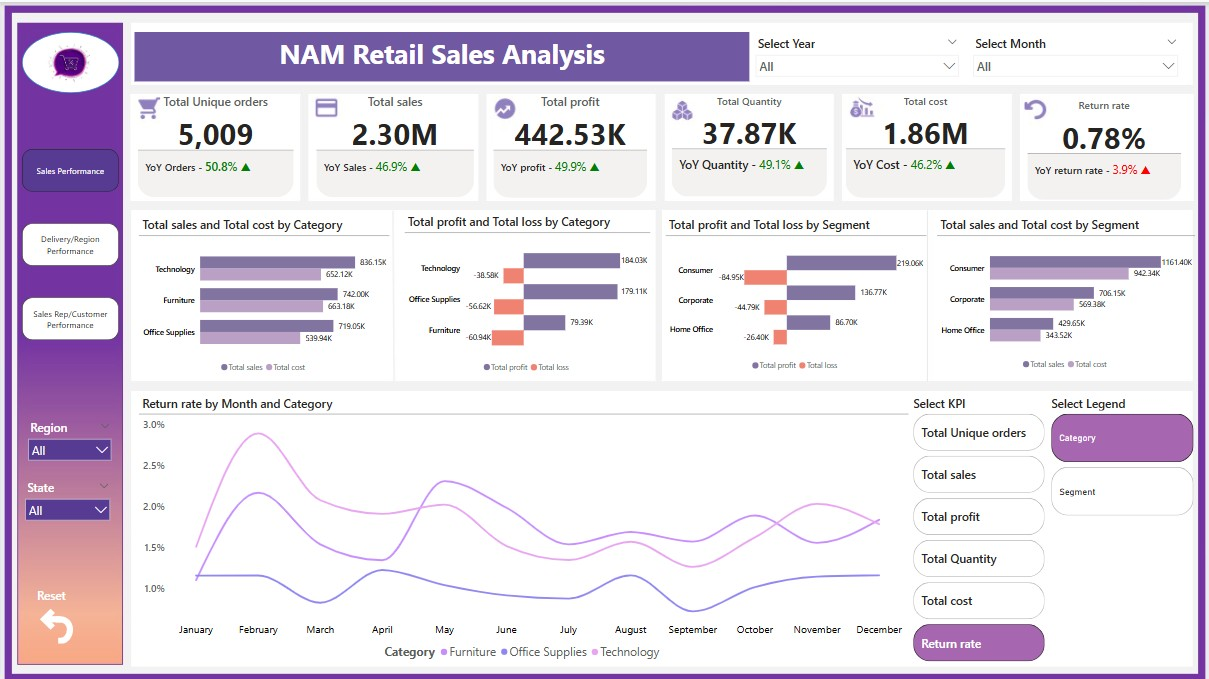

The dashboard page shown, as its layout file describes it:
{"tool":"powerbi","page":{"name":"Sales Performance","canvas":[1920,1080],"ordinal":0},"visuals":[{"type":"clusteredBarChart","fields":{"Category":["Dim_Products.Category"],"Y":["_measures.Total sales","_measures.Total cost"]},"box":[219.5,341.2,398.4,257.7],"z":0},{"type":"clusteredBarChart","fields":{"Category":["Dim_Products.Category"],"Y":["_measures.Total profit","_measures.Total loss"]},"box":[641.8,336.4,391.3,262.5],"z":1000},{"type":"lineChart","fields":{"Y":["_measures.Return rate"],"Series":["Dim_Products.Category"],"Category":["dim_Date.Date.Variation.Date Hierarchy.Year","dim_Date.Date.Variation.Date Hierarchy.Month"]},"box":[219.5,625.1,1224,429.5],"z":2000},{"type":"advancedSlicerVisual","title":"Select KPI","fields":{"Values":["KPI.KPI"]},"box":[1445.9,625.1,219.5,429.5],"z":3000},{"type":"cardVisual","fields":{"Data":["_measures.Total Unique orders"]},"box":[212.7,145.8,258.2,170.1],"z":4000},{"type":"cardVisual","fields":{"Data":["_measures.Total sales"]},"box":[495.2,145.8,261.3,170.1],"z":5000},{"type":"cardVisual","fields":{"Data":["_measures.Total profit"]},"box":[777.8,145.5,255.3,171.8],"z":6000},{"type":"cardVisual","fields":{"Data":["_measures.Total Quantity"]},"box":[1061.7,145.5,257.7,169.4],"z":7000},{"type":"cardVisual","fields":{"Data":["_measures.Total cost"]},"box":[1338.5,145.5,264.8,171.8],"z":8000},{"type":"slicer","fields":{"Values":["dim_Date.Year"]},"box":[1191.3,47.7,342.5,83.4],"z":10000},{"type":"slicer","fields":{"Values":["dim_Date.Month Name"]},"box":[1536.8,47.7,345.5,83.4],"z":11000},{"type":"clusteredBarChart","fields":{"Y":["_measures.Total profit","_measures.Total loss"],"Category":["Dim_customers.Segment"]},"box":[1057,341.2,415.1,255.3],"z":12000},{"type":"clusteredBarChart","fields":{"Y":["_measures.Total sales","_measures.Total cost"],"Category":["Dim_customers.Segment"]},"box":[1488.8,341.2,410.4,252.9],"z":13000},{"type":"advancedSlicerVisual","title":"Select Legend","fields":{"Values":["Legend.Legend"]},"box":[1665.4,625.1,236.2,198],"z":14000},{"type":"pageNavigator","box":[33.4,233.9,154.9,306.8],"z":15000},{"type":"slicer","fields":{"Values":["Dim_Location.State"]},"box":[29.8,753.5,154.9,86.4],"z":16000},{"type":"slicer","fields":{"Values":["Dim_Location.Region"]},"box":[32.8,658.2,151.9,86.4],"z":17000},{"type":"textbox","box":[212.7,48.6,978.2,79],"z":18000},{"type":"actionButton","title":"Reset","box":[57.7,929.6,100.3,94.2],"z":19000},{"type":"shape","box":[33.4,48.6,154.9,97.2],"z":19001},{"type":"image","box":[60.8,54.7,100.3,82],"z":19002},{"type":"cardVisual","fields":{"Data":["_measures.Return rate"]},"box":[1628.4,151.9,255.2,167.1],"z":19003}]}

Visuals, with their boxes in screenshot pixels (x1, y1, x2, y2), scaled from the page's 1920x1080 canvas onto the 1209x679 screenshot:
clusteredBarChart - Dim_Products.Category x _measures.Total sales: (x1=138, y1=215, x2=389, y2=377)
clusteredBarChart - Dim_Products.Category x _measures.Total profit: (x1=404, y1=211, x2=651, y2=377)
lineChart - _measures.Return rate x Dim_Products.Category: (x1=138, y1=393, x2=909, y2=663)
"Select KPI" advancedSlicerVisual: (x1=910, y1=393, x2=1049, y2=663)
cardVisual - _measures.Total Unique orders: (x1=134, y1=92, x2=297, y2=199)
cardVisual - _measures.Total sales: (x1=312, y1=92, x2=476, y2=199)
cardVisual - _measures.Total profit: (x1=490, y1=91, x2=651, y2=199)
cardVisual - _measures.Total Quantity: (x1=669, y1=91, x2=831, y2=198)
cardVisual - _measures.Total cost: (x1=843, y1=91, x2=1010, y2=199)
slicer - dim_Date.Year: (x1=750, y1=30, x2=966, y2=82)
slicer - dim_Date.Month Name: (x1=968, y1=30, x2=1185, y2=82)
clusteredBarChart - _measures.Total profit x _measures.Total loss: (x1=666, y1=215, x2=927, y2=375)
clusteredBarChart - _measures.Total sales x _measures.Total cost: (x1=937, y1=215, x2=1196, y2=374)
"Select Legend" advancedSlicerVisual: (x1=1049, y1=393, x2=1197, y2=517)
pageNavigator: (x1=21, y1=147, x2=119, y2=340)
slicer - Dim_Location.State: (x1=19, y1=474, x2=116, y2=528)
slicer - Dim_Location.Region: (x1=21, y1=414, x2=116, y2=468)
textbox: (x1=134, y1=31, x2=750, y2=80)
"Reset" actionButton: (x1=36, y1=584, x2=99, y2=644)
shape: (x1=21, y1=31, x2=119, y2=92)
image: (x1=38, y1=34, x2=101, y2=86)
cardVisual - _measures.Return rate: (x1=1025, y1=96, x2=1186, y2=201)
